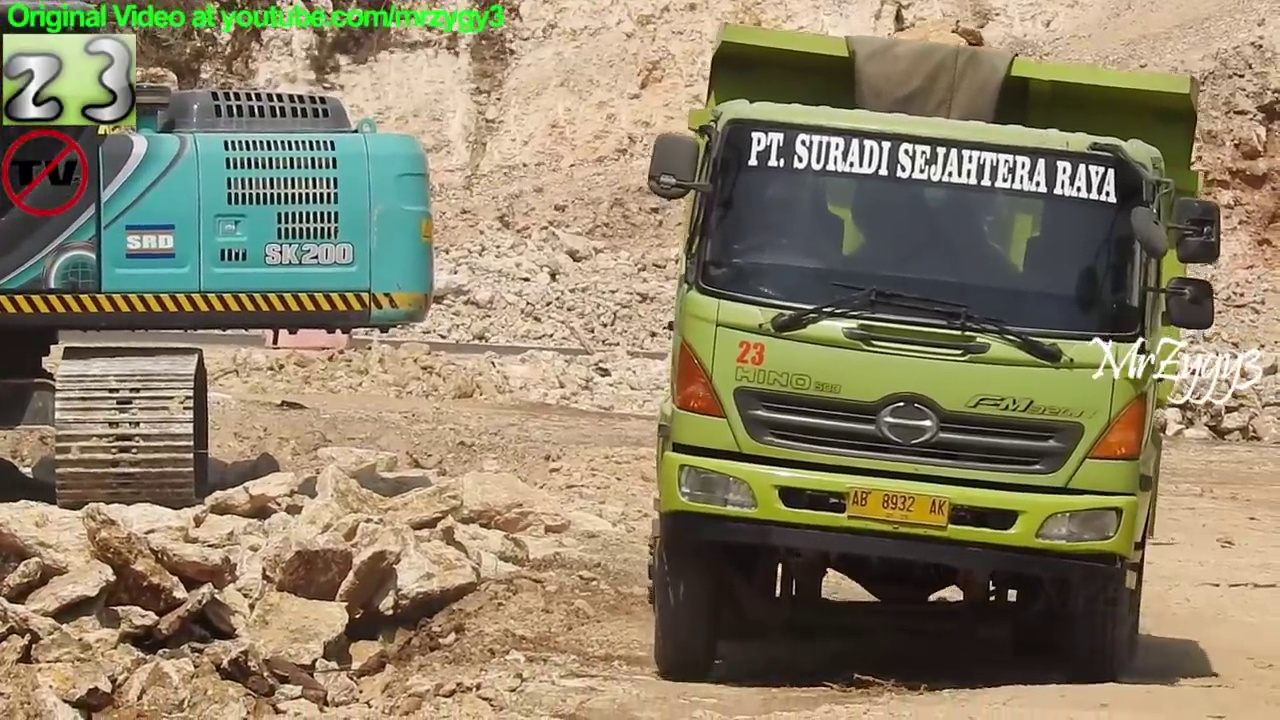excavator: (1, 1, 438, 520)
truck: (637, 17, 1224, 695)
